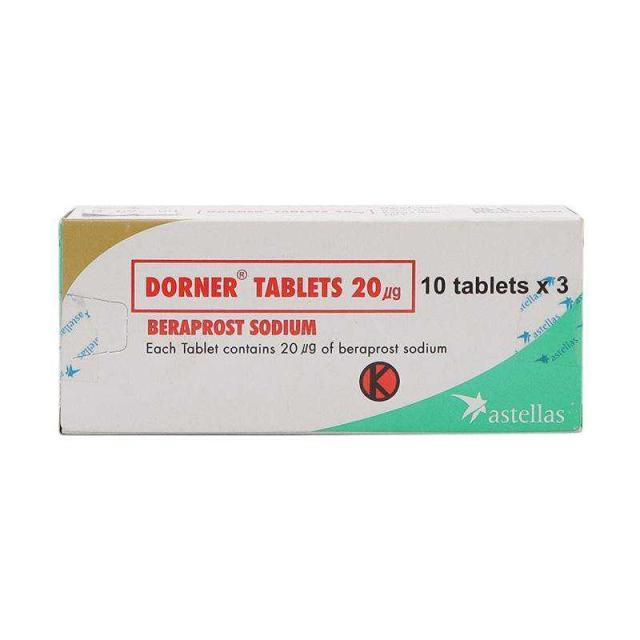drug-name: (144, 270, 252, 300)
